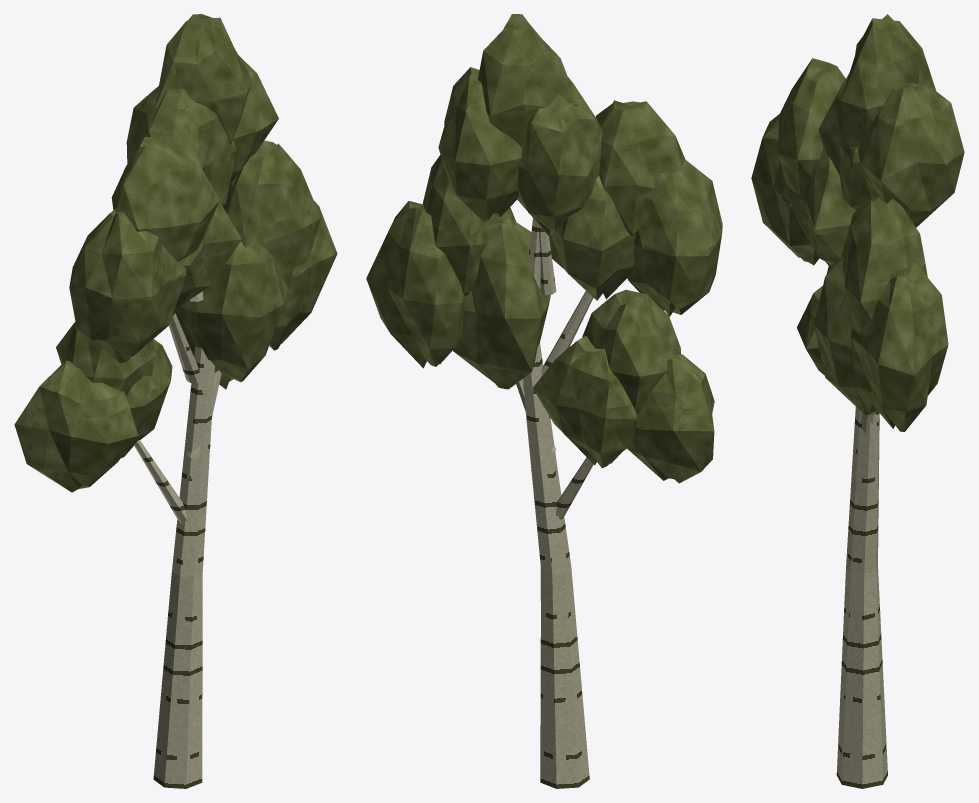
Rendered from birch.glb.
3 renders of one model, left to right at view 1: azimuth 30°, elevation 25°; view 2: azimuth 150°, elevation 25°; view 3: azimuth 270°, elevation 25°, orthographic. The views are drawn at different scales.
Parts seen in each view (by area): view 1: Birch_LightOpenCrown, Birch_PaleForkedTrunk; view 2: Birch_LightOpenCrown, Birch_PaleForkedTrunk; view 3: Birch_LightOpenCrown, Birch_PaleForkedTrunk.
Boxes of the visible parts, <box> form: Birch_LightOpenCrown: <box>14,14,337,492</box>; Birch_PaleForkedTrunk: <box>134,291,221,788</box>; Birch_LightOpenCrown: <box>366,14,722,483</box>; Birch_PaleForkedTrunk: <box>516,218,593,788</box>; Birch_LightOpenCrown: <box>751,14,964,431</box>; Birch_PaleForkedTrunk: <box>836,406,887,788</box>.
Bounding box in the file's own units: 2.98 × 6.52 × 1.62.
2 materials, 2 textured.
